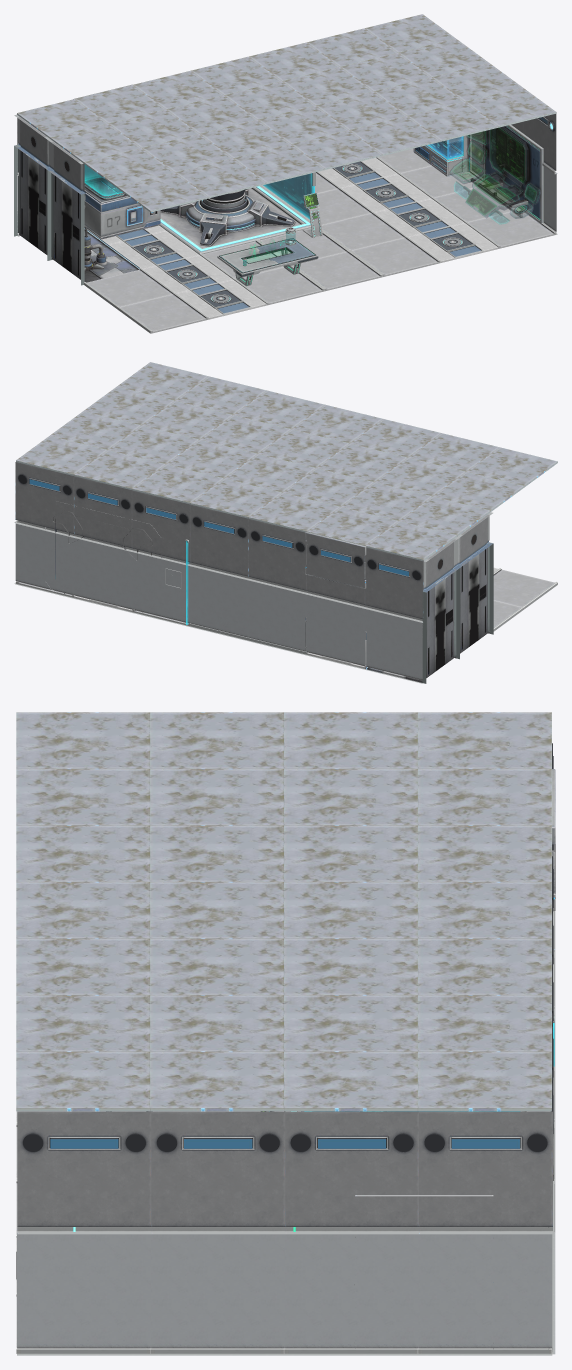
The model's file is lab.glb.
The picture shows the model from 3 angles, top to bottom: view 1: azimuth 30°, elevation 25°; view 2: azimuth 150°, elevation 25°; view 3: azimuth 270°, elevation 25°; orthographic projection. The views are drawn at different scales.
Parts seen in each view (by area): view 1: Object_10; view 2: Object_10; view 3: Object_10.
Part boxes in pixels (x1=…): Object_10: x1=14, y1=14, x2=557, y2=333; Object_10: x1=14, y1=362, x2=557, y2=683; Object_10: x1=16, y1=712, x2=555, y2=1355.
Bounding box in the file's own units: 20 × 5.72 × 11.38.
28 materials, 28 textured.
